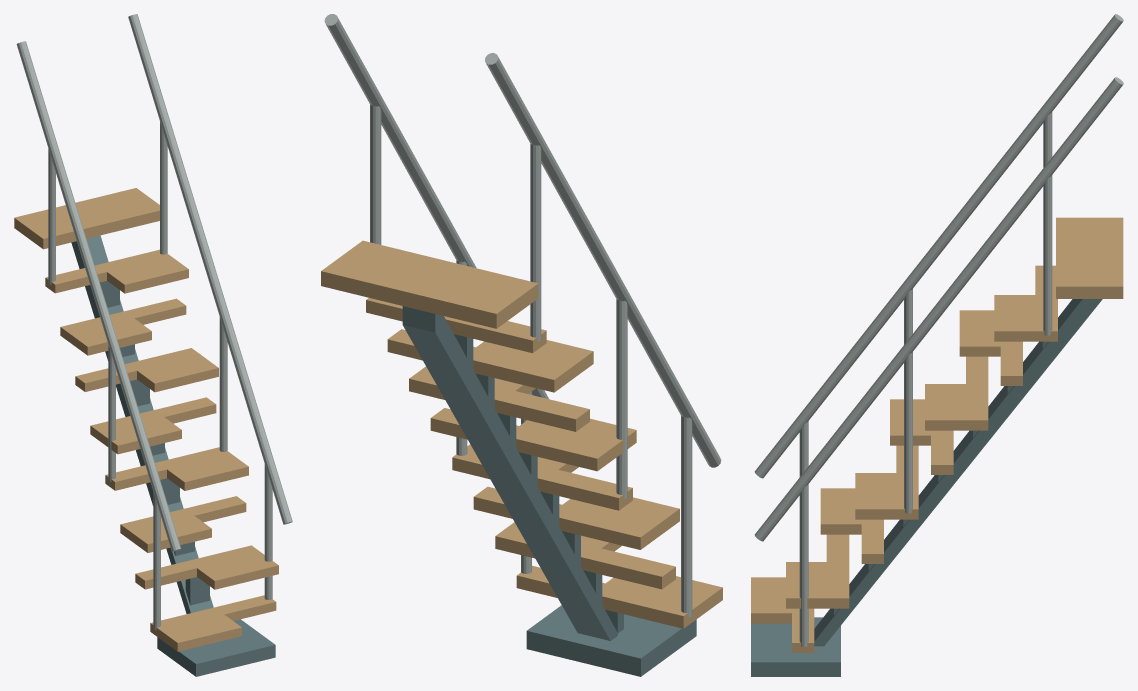
The picture shows the model from 3 angles, left to right: view 1: azimuth 30°, elevation 25°; view 2: azimuth 150°, elevation 25°; view 3: azimuth 270°, elevation 25°; orthographic projection. The views are drawn at different scales.
Parts seen in each view (by area): view 1: RightWholeInclinedHandrail, LeftWholeInclinedHandrail, WholeUpperMountLanding, WholeAlternatingPaddleTread0, WholeAlternatingPaddleTread1, WholeAlternatingPaddleTread3, WholeAlternatingPaddleTread7, WholeAlternatingPaddleTread5, WholeAlternatingPaddleTread6, WholeGroundMountFoot, WholeAlternatingPaddleTread4, WholeAlternatingPaddleTread2 (+8 smaller); view 2: WholeInclinedCentralBackbone, WholeUpperMountLanding, LeftWholeInclinedHandrail, WholeGroundMountFoot, WholeAlternatingPaddleTread2, WholeAlternatingPaddleTread6, WholeAlternatingPaddleTread4, WholeAlternatingPaddleTread0, RightWholeInclinedHandrail, WholeAlternatingPaddleTread1, WholeAlternatingPaddleTread5, WholeAlternatingPaddleTread3 (+5 smaller); view 3: WholeInclinedCentralBackbone, LeftWholeInclinedHandrail, RightWholeInclinedHandrail, WholeUpperMountLanding, WholeGroundMountFoot, WholeAlternatingPaddleTread5, WholeAlternatingPaddleTread1, WholeAlternatingPaddleTread7, WholeAlternatingPaddleTread3, WholeAlternatingPaddleTread2, WholeAlternatingPaddleTread6, WholeAlternatingPaddleTread0 (+4 smaller).
Boxes of the visible parts, x1,y1,x2,y2 form: RightWholeInclinedHandrail: [128, 14, 292, 524]; LeftWholeInclinedHandrail: [16, 41, 180, 551]; WholeUpperMountLanding: [14, 188, 159, 249]; WholeAlternatingPaddleTread0: [150, 595, 276, 651]; WholeAlternatingPaddleTread1: [135, 545, 278, 589]; WholeAlternatingPaddleTread3: [105, 447, 248, 490]; WholeAlternatingPaddleTread7: [45, 249, 188, 293]; WholeAlternatingPaddleTread5: [75, 348, 218, 392]; WholeAlternatingPaddleTread6: [60, 298, 186, 355]; WholeGroundMountFoot: [157, 619, 275, 676]; WholeAlternatingPaddleTread4: [90, 397, 216, 454]; WholeAlternatingPaddleTread2: [120, 496, 246, 552]; WholeInclinedCentralBackbone: [402, 306, 617, 640]; WholeUpperMountLanding: [321, 240, 538, 328]; LeftWholeInclinedHandrail: [485, 53, 721, 467]; WholeGroundMountFoot: [526, 605, 696, 676]; WholeAlternatingPaddleTread2: [473, 486, 679, 549]; WholeAlternatingPaddleTread6: [387, 329, 593, 392]; WholeAlternatingPaddleTread4: [430, 408, 636, 471]; WholeAlternatingPaddleTread0: [516, 565, 722, 628]; RightWholeInclinedHandrail: [324, 14, 548, 398]; WholeAlternatingPaddleTread1: [495, 522, 675, 589]; WholeAlternatingPaddleTread5: [409, 366, 589, 431]; WholeAlternatingPaddleTread3: [452, 444, 632, 510]; WholeInclinedCentralBackbone: [814, 299, 1102, 646]; LeftWholeInclinedHandrail: [754, 14, 1123, 478]; RightWholeInclinedHandrail: [754, 77, 1123, 541]; WholeUpperMountLanding: [1056, 217, 1123, 298]; WholeGroundMountFoot: [751, 617, 840, 676]; WholeAlternatingPaddleTread5: [925, 356, 988, 430]; WholeAlternatingPaddleTread1: [786, 534, 849, 608]; WholeAlternatingPaddleTread7: [994, 265, 1057, 341]; WholeAlternatingPaddleTread3: [855, 445, 918, 519]; WholeAlternatingPaddleTread2: [820, 488, 883, 563]; WholeAlternatingPaddleTread6: [959, 310, 1022, 385]; WholeAlternatingPaddleTread0: [751, 577, 814, 652].
Bounding box in the file's own units: 0.8 × 3.28 × 1.82.
